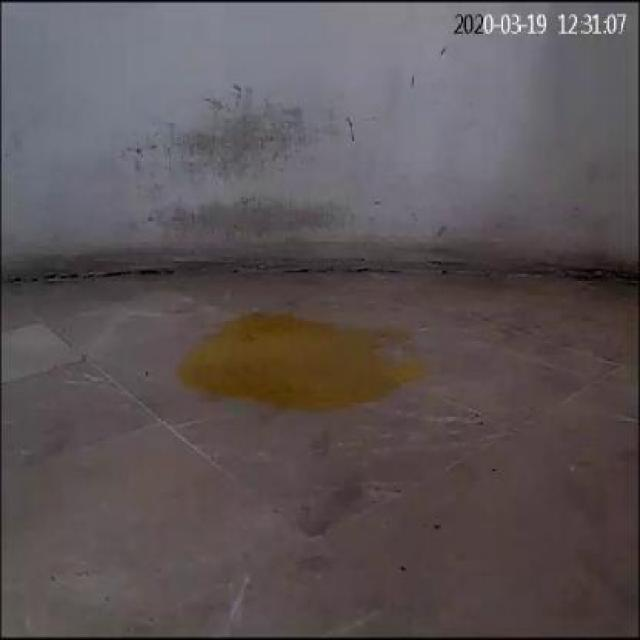spill: (174, 312, 428, 408)
